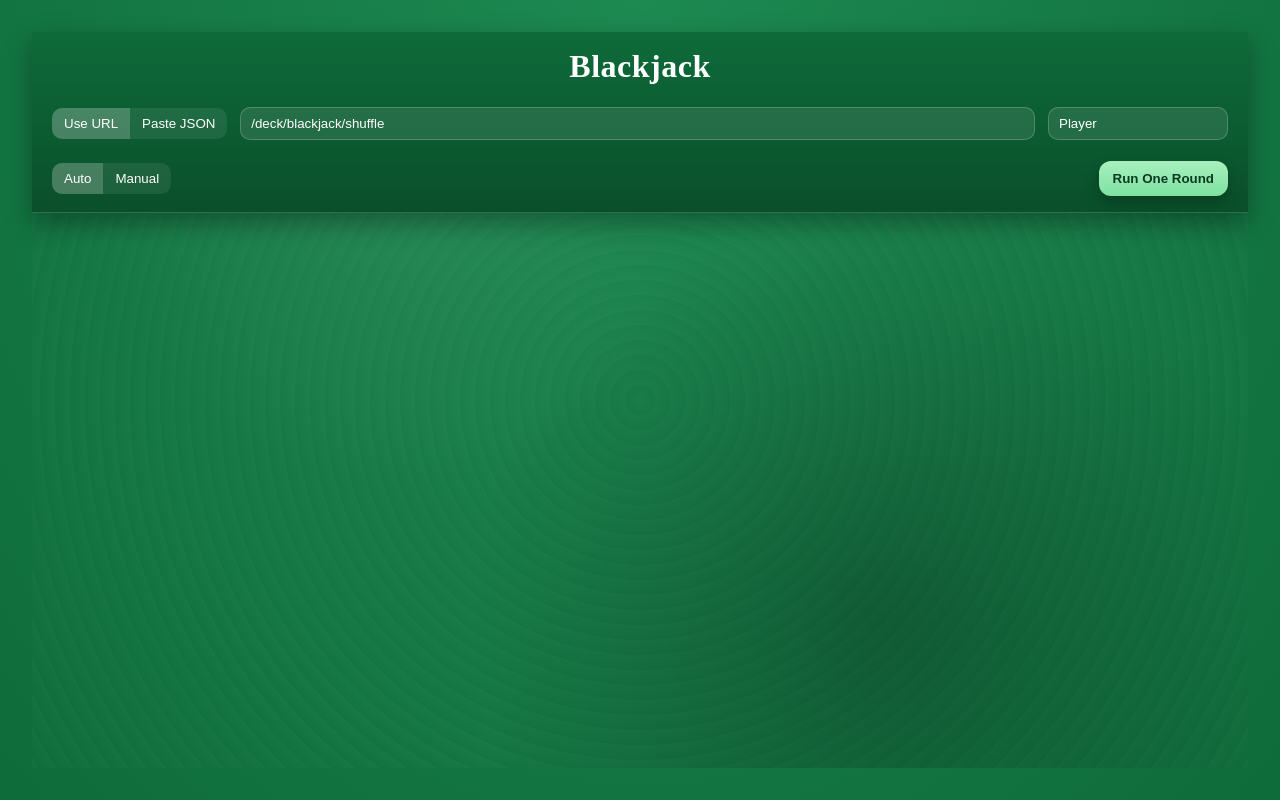
Test: manual mode: hides dealer hole card and masks dealer score until stand
Click the button "Manual": [137, 179] box 103,163 -> 171,194
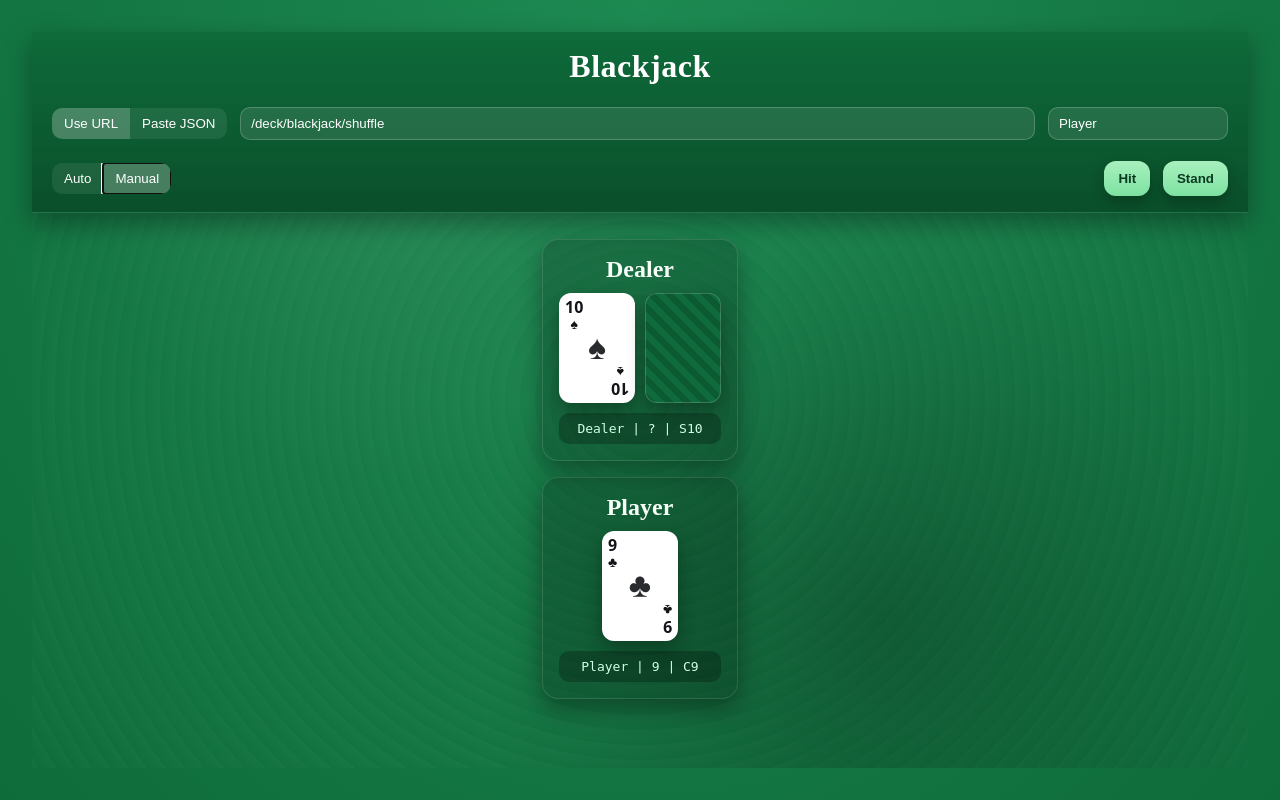
Check: the heading "Dealer" is shown, box 606,256 -> 674,282
Check: the element named "face-down card" is shown, box 645,293 -> 721,403
Check: the text "Dealer | ? | S10" is shown, box 559,413 -> 721,444
